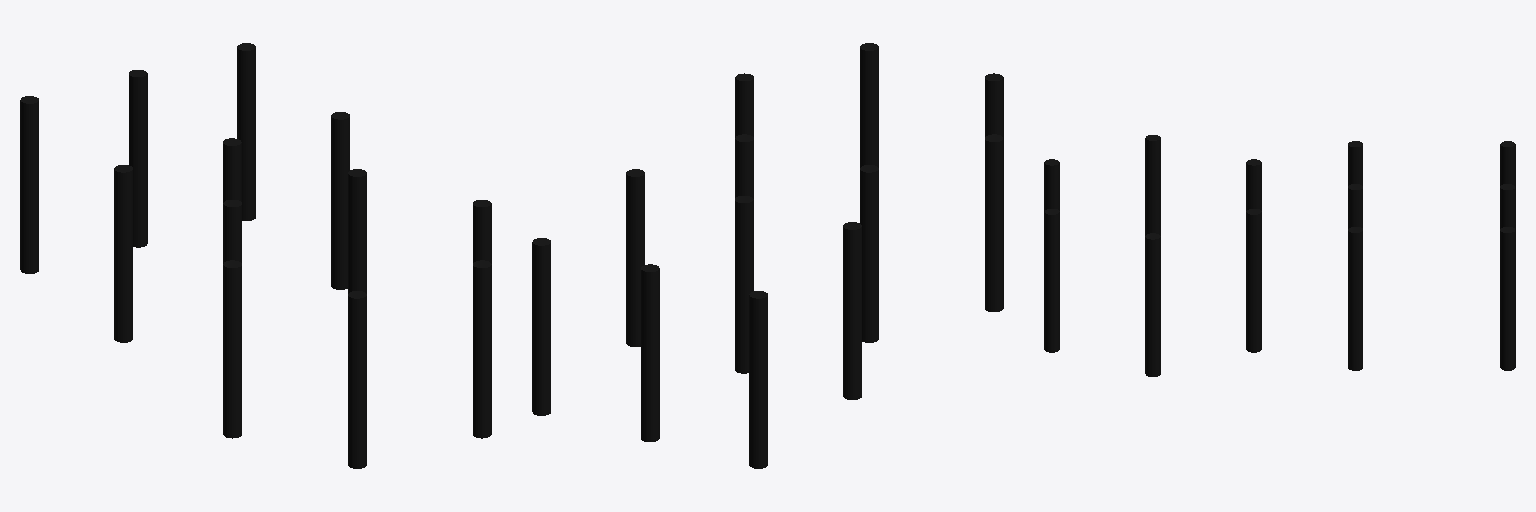
The robot description file, URDF, robot "peg_board":
<?xml version="0.0" ?>
<robot name="peg_board">
    <material name="ROSE_GOLD">
        <color rgba="0.98 0.84 0.74 1"/>
    </material>
    <material name="BLACK">
        <color rgba="0.12 0.12 0.12 1"/>
    </material>
    <!--  block color-->
    <material name="RED">
        <color rgba="0.73 0.05 0.18 0.9"/>
    </material>
    <material name="BLUE">
        <color rgba="0.68 1.00 0.80 0.9"/>
    </material>

    <link name="baseLink">
        <contact>
            <lateral_friction value="1.0"/>
        </contact>
        <inertial>
            <origin rpy="0 0 0" xyz="0 0 0"/>
            <mass value=".0"/>
            <inertia ixx="0." ixy="0" ixz="0" iyy="0." iyz="0" izz="0."/>
        </inertial>
        <visual>
            <origin rpy="0 0 0" xyz="0 0 0"/>
            <geometry>
                <mesh filename="meshes/board.obj" scale="1 1 1"/>
            </geometry>
            <material name="ROSE_GOLD"/>
        </visual>
        <collision>
            <origin rpy="0 0 0" xyz="0 0 0"/>
            <geometry>
                <box size="0.103 0.154 0.022"/>
            </geometry>
        </collision>
    </link>

    <!--  <link name="peg_0">-->
    <!--&lt;!&ndash;    test purpose&ndash;&gt;-->
    <!--    <contact>-->
    <!--      <lateral_friction value="1.0"/>-->
    <!--    </contact>-->
    <!--    <inertial>-->
    <!--      <origin rpy="0 0 0" xyz="0 0 0"/>-->
    <!--      <mass value=".0"/>-->
    <!--      <inertia ixx="0." ixy="0" ixz="0" iyy="0." iyz="0" izz="0."/>-->
    <!--    </inertial>-->
    <!--    <visual>-->
    <!--      <origin rpy="0 0 0" xyz="0 0 0"/>-->
    <!--      <geometry>-->
    <!--        <mesh filename="meshes/peg.obj" scale="1 1 1"/>-->
    <!--      </geometry>-->
    <!--      <material name="BLACK"/>-->
    <!--    </visual>-->
    <!--    <collision>-->
    <!--      <origin rpy="0 0 0" xyz="0 0 0"/>-->
    <!--      <geometry>-->
    <!--        <cylinder length="0.028" radius="0.001"/>-->
    <!--      </geometry>-->
    <!--    </collision>-->
    <!--  </link>-->

    <!--  <joint name="peg_joint_0" type="fixed">-->
    <!--    <parent link="baseLink"/>-->
    <!--    <child link="peg_0"/>-->
    <!--    <origin rpy="0 0 0" xyz="0 0 0.022"/>-->
    <!--  </joint>-->

    <link name="peg_1">
        <contact>
            <lateral_friction value="1.0"/>
        </contact>
        <inertial>
            <origin rpy="0 0 0" xyz="0 0 0"/>
            <mass value=".0"/>
            <inertia ixx="0." ixy="0" ixz="0" iyy="0." iyz="0" izz="0."/>
        </inertial>
        <visual>
            <origin rpy="0 0 0" xyz="0 0 0"/>
            <geometry>
                <mesh filename="meshes/peg.obj" scale="1 1 1"/>
            </geometry>
            <material name="BLACK"/>
        </visual>
        <collision>
            <origin rpy="0 0 0" xyz="0 0 0"/>
            <geometry>
                <cylinder length="0.028" radius="0.001"/>
            </geometry>
        </collision>
    </link>

    <joint name="peg_joint_1" type="fixed">
        <parent link="baseLink"/>
        <child link="peg_1"/>
        <origin rpy="0 0 0" xyz="-0.03 0.043 0.022"/>
    </joint>

    <link name="peg_2">
        <contact>
            <lateral_friction value="1.0"/>
        </contact>
        <inertial>
            <origin rpy="0 0 0" xyz="0 0 0"/>
            <mass value=".0"/>
            <inertia ixx="0." ixy="0" ixz="0" iyy="0." iyz="0" izz="0."/>
        </inertial>
        <visual>
            <origin rpy="0 0 0" xyz="0 0 0"/>
            <geometry>
                <mesh filename="meshes/peg.obj" scale="1 1 1"/>
            </geometry>
            <material name="BLACK"/>
        </visual>
        <collision>
            <origin rpy="0 0 0" xyz="0 0 0"/>
            <geometry>
                <cylinder length="0.028" radius="0.001"/>
            </geometry>
        </collision>
    </link>

    <joint name="peg_joint_2" type="fixed">
        <parent link="baseLink"/>
        <child link="peg_2"/>
        <origin rpy="0 0 0" xyz="-0.01 0.043 0.022"/>
    </joint>

    <link name="peg_3">
        <contact>
            <lateral_friction value="1.0"/>
        </contact>
        <inertial>
            <origin rpy="0 0 0" xyz="0 0 0"/>
            <mass value=".0"/>
            <inertia ixx="0." ixy="0" ixz="0" iyy="0." iyz="0" izz="0."/>
        </inertial>
        <visual>
            <origin rpy="0 0 0" xyz="0 0 0"/>
            <geometry>
                <mesh filename="meshes/peg.obj" scale="1 1 1"/>
            </geometry>
            <material name="BLACK"/>
        </visual>
        <collision>
            <origin rpy="0 0 0" xyz="0 0 0"/>
            <geometry>
                <cylinder length="0.028" radius="0.001"/>
            </geometry>
        </collision>
    </link>

    <joint name="peg_joint_3" type="fixed">
        <parent link="baseLink"/>
        <child link="peg_3"/>
        <origin rpy="0 0 0" xyz="0.01 0.043 0.022"/>
    </joint>

    <link name="peg_4">
        <contact>
            <lateral_friction value="1.0"/>
        </contact>
        <inertial>
            <origin rpy="0 0 0" xyz="0 0 0"/>
            <mass value=".0"/>
            <inertia ixx="0." ixy="0" ixz="0" iyy="0." iyz="0" izz="0."/>
        </inertial>
        <visual>
            <origin rpy="0 0 0" xyz="0 0 0"/>
            <geometry>
                <mesh filename="meshes/peg.obj" scale="1 1 1"/>
            </geometry>
            <material name="BLACK"/>
        </visual>
        <collision>
            <origin rpy="0 0 0" xyz="0 0 0"/>
            <geometry>
                <cylinder length="0.028" radius="0.001"/>
            </geometry>
        </collision>
    </link>

    <joint name="peg_joint_4" type="fixed">
        <parent link="baseLink"/>
        <child link="peg_4"/>
        <origin rpy="0 0 0" xyz="-0.03 0.013 0.022"/>
    </joint>

    <link name="peg_5">
        <contact>
            <lateral_friction value="1.0"/>
        </contact>
        <inertial>
            <origin rpy="0 0 0" xyz="0 0 0"/>
            <mass value=".0"/>
            <inertia ixx="0." ixy="0" ixz="0" iyy="0." iyz="0" izz="0."/>
        </inertial>
        <visual>
            <origin rpy="0 0 0" xyz="0 0 0"/>
            <geometry>
                <mesh filename="meshes/peg.obj" scale="1 1 1"/>
            </geometry>
            <material name="BLACK"/>
        </visual>
        <collision>
            <origin rpy="0 0 0" xyz="0 0 0"/>
            <geometry>
                <cylinder length="0.028" radius="0.001"/>
            </geometry>
        </collision>
    </link>

    <joint name="peg_joint_5" type="fixed">
        <parent link="baseLink"/>
        <child link="peg_5"/>
        <origin rpy="0 0 0" xyz="-0.01 0.013 0.022"/>
    </joint>

    <link name="peg_6">
        <contact>
            <lateral_friction value="1.0"/>
        </contact>
        <inertial>
            <origin rpy="0 0 0" xyz="0 0 0"/>
            <mass value=".0"/>
            <inertia ixx="0." ixy="0" ixz="0" iyy="0." iyz="0" izz="0."/>
        </inertial>
        <visual>
            <origin rpy="0 0 0" xyz="0 0 0"/>
            <geometry>
                <mesh filename="meshes/peg.obj" scale="1 1 1"/>
            </geometry>
            <material name="BLACK"/>
        </visual>
        <collision>
            <origin rpy="0 0 0" xyz="0 0 0"/>
            <geometry>
                <cylinder length="0.028" radius="0.001"/>
            </geometry>
        </collision>
    </link>

    <joint name="peg_joint_6" type="fixed">
        <parent link="baseLink"/>
        <child link="peg_6"/>
        <origin rpy="0 0 0" xyz="0.01 0.013 0.022"/>
    </joint>

    <link name="peg_7">
        <contact>
            <lateral_friction value="1.0"/>
        </contact>
        <inertial>
            <origin rpy="0 0 0" xyz="0 0 0"/>
            <mass value=".0"/>
            <inertia ixx="0." ixy="0" ixz="0" iyy="0." iyz="0" izz="0."/>
        </inertial>
        <visual>
            <origin rpy="0 0 0" xyz="0 0 0"/>
            <geometry>
                <mesh filename="meshes/peg.obj" scale="1 1 1"/>
            </geometry>
            <material name="BLACK"/>
        </visual>
        <collision>
            <origin rpy="0 0 0" xyz="0 0 0"/>
            <geometry>
                <cylinder length="0.028" radius="0.001"/>
            </geometry>
        </collision>
    </link>

    <joint name="peg_joint_7" type="fixed">
        <parent link="baseLink"/>
        <child link="peg_7"/>
        <origin rpy="0 0 0" xyz="-0.033 -0.027 0.022"/>
    </joint>

    <link name="peg_8">
        <contact>
            <lateral_friction value="1.0"/>
        </contact>
        <inertial>
            <origin rpy="0 0 0" xyz="0 0 0"/>
            <mass value=".0"/>
            <inertia ixx="0." ixy="0" ixz="0" iyy="0." iyz="0" izz="0."/>
        </inertial>
        <visual>
            <origin rpy="0 0 0" xyz="0 0 0"/>
            <geometry>
                <mesh filename="meshes/peg.obj" scale="1 1 1"/>
            </geometry>
            <material name="BLACK"/>
        </visual>
        <collision>
            <origin rpy="0 0 0" xyz="0 0 0"/>
            <geometry>
                <cylinder length="0.028" radius="0.001"/>
            </geometry>
        </collision>
    </link>

    <joint name="peg_joint_8" type="fixed">
        <parent link="baseLink"/>
        <child link="peg_8"/>
        <origin rpy="0 0 0" xyz="0.013 -0.027 0.022"/>
    </joint>

    <link name="peg_9">
        <contact>
            <lateral_friction value="1.0"/>
        </contact>
        <inertial>
            <origin rpy="0 0 0" xyz="0 0 0"/>
            <mass value=".0"/>
            <inertia ixx="0." ixy="0" ixz="0" iyy="0." iyz="0" izz="0."/>
        </inertial>
        <visual>
            <origin rpy="0 0 0" xyz="0 0 0"/>
            <geometry>
                <mesh filename="meshes/peg.obj" scale="1 1 1"/>
            </geometry>
            <material name="BLACK"/>
        </visual>
        <collision>
            <origin rpy="0 0 0" xyz="0 0 0"/>
            <geometry>
                <cylinder length="0.028" radius="0.001"/>
            </geometry>
        </collision>
    </link>

    <joint name="peg_joint_9" type="fixed">
        <parent link="baseLink"/>
        <child link="peg_9"/>
        <origin rpy="0 0 0" xyz="-0.0215 -0.007081 0.022"/>
    </joint>

    <link name="peg_10">
        <contact>
            <lateral_friction value="1.0"/>
        </contact>
        <inertial>
            <origin rpy="0 0 0" xyz="0 0 0"/>
            <mass value=".0"/>
            <inertia ixx="0." ixy="0" ixz="0" iyy="0." iyz="0" izz="0."/>
        </inertial>
        <visual>
            <origin rpy="0 0 0" xyz="0 0 0"/>
            <geometry>
                <mesh filename="meshes/peg.obj" scale="1 1 1"/>
            </geometry>
            <material name="BLACK"/>
        </visual>
        <collision>
            <origin rpy="0 0 0" xyz="0 0 0"/>
            <geometry>
                <cylinder length="0.028" radius="0.001"/>
            </geometry>
        </collision>
    </link>

    <joint name="peg_joint_10" type="fixed">
        <parent link="baseLink"/>
        <child link="peg_10"/>
        <origin rpy="0 0 0" xyz="0.0015 -0.007081 0.022"/>
    </joint>

    <link name="peg_11">
        <contact>
            <lateral_friction value="1.0"/>
        </contact>
        <inertial>
            <origin rpy="0 0 0" xyz="0 0 0"/>
            <mass value=".0"/>
            <inertia ixx="0." ixy="0" ixz="0" iyy="0." iyz="0" izz="0."/>
        </inertial>
        <visual>
            <origin rpy="0 0 0" xyz="0 0 0"/>
            <geometry>
                <mesh filename="meshes/peg.obj" scale="1 1 1"/>
            </geometry>
            <material name="BLACK"/>
        </visual>
        <collision>
            <origin rpy="0 0 0" xyz="0 0 0"/>
            <geometry>
                <cylinder length="0.028" radius="0.001"/>
            </geometry>
        </collision>
    </link>

    <joint name="peg_joint_11" type="fixed">
        <parent link="baseLink"/>
        <child link="peg_11"/>
        <origin rpy="0 0 0" xyz="-0.0215 -0.046919 0.022"/>
    </joint>

    <link name="peg_12">
        <contact>
            <lateral_friction value="1.0"/>
        </contact>
        <inertial>
            <origin rpy="0 0 0" xyz="0 0 0"/>
            <mass value=".0"/>
            <inertia ixx="0." ixy="0" ixz="0" iyy="0." iyz="0" izz="0."/>
        </inertial>
        <visual>
            <origin rpy="0 0 0" xyz="0 0 0"/>
            <geometry>
                <mesh filename="meshes/peg.obj" scale="1 1 1"/>
            </geometry>
            <material name="BLACK"/>
        </visual>
        <collision>
            <origin rpy="0 0 0" xyz="0 0 0"/>
            <geometry>
                <cylinder length="0.028" radius="0.001"/>
            </geometry>
        </collision>
    </link>

    <joint name="peg_joint_12" type="fixed">
        <parent link="baseLink"/>
        <child link="peg_12"/>
        <origin rpy="0 0 0" xyz="0.0015 -0.046919 0.022"/>
    </joint>
</robot>

--- What the picture shows (computed from the rendered views, not written in the file) ---
3 views of the same robot in one strip: view 1: azimuth 30°, elevation 25°; view 2: azimuth 150°, elevation 25°; view 3: azimuth 270°, elevation 25° (orthographic).
Model peg_board with 13 links and 12 joints (12 fixed), rooted at baseLink, posed every joint at zero.
Visible links, largest first — view 1: peg_4, peg_11, peg_1, peg_7, peg_12, peg_6, peg_2, peg_3, peg_10, peg_5, peg_8, peg_9; view 2: peg_4, peg_1, peg_3, peg_2, peg_7, peg_9, peg_6, peg_5, peg_12, peg_10, peg_11, peg_8; view 3: peg_3, peg_10, peg_12, peg_8, peg_6, peg_7, peg_11, peg_9, peg_2, peg_1, peg_4, peg_5.
Boxes of the visible links, <box> form: peg_4: <box>114,165,132,342</box>; peg_11: <box>348,291,366,468</box>; peg_1: <box>20,96,38,273</box>; peg_7: <box>223,260,241,438</box>; peg_12: <box>473,260,491,438</box>; peg_6: <box>331,112,349,289</box>; peg_2: <box>129,70,147,247</box>; peg_3: <box>237,43,255,220</box>; peg_10: <box>348,169,366,293</box>; peg_5: <box>223,138,241,202</box>; peg_8: <box>473,200,491,263</box>; peg_9: <box>223,200,241,263</box>; peg_4: <box>843,222,861,399</box>; peg_1: <box>749,291,767,468</box>; peg_3: <box>532,238,550,415</box>; peg_2: <box>641,264,659,441</box>; peg_7: <box>985,134,1003,311</box>; peg_9: <box>860,165,878,342</box>; peg_6: <box>626,169,644,346</box>; peg_5: <box>735,196,753,373</box>; peg_12: <box>860,43,878,167</box>; peg_10: <box>735,134,753,198</box>; peg_11: <box>985,73,1003,137</box>; peg_8: <box>735,73,753,137</box>; peg_3: <box>1500,227,1515,370</box>; peg_10: <box>1246,209,1261,352</box>; peg_12: <box>1044,209,1059,352</box>; peg_8: <box>1145,233,1160,376</box>; peg_6: <box>1348,227,1362,370</box>; peg_7: <box>1145,135,1160,235</box>; peg_11: <box>1044,159,1059,211</box>; peg_9: <box>1246,159,1261,210</box>; peg_2: <box>1500,184,1515,229</box>; peg_1: <box>1500,141,1515,186</box>; peg_4: <box>1348,141,1362,185</box>; peg_5: <box>1348,184,1362,228</box>.
Size in the robot's own frame: 0.049 by 0.0929 by 0.03 metres.
12 mesh visuals loaded from 2 distinct referenced files (1 OBJ); not drawn: 1 (reference not matched to a file when rendering).
